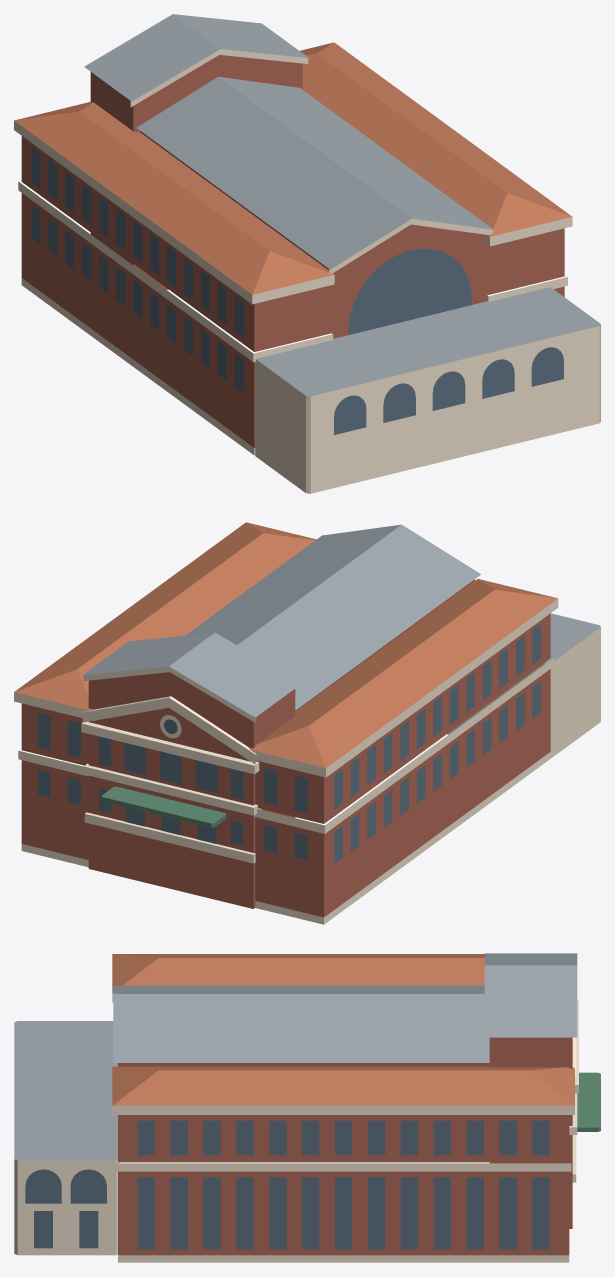
Rendered from sea-union-station.glb.
3 views of the same model, one above another, from view 1: azimuth 30°, elevation 25°; view 2: azimuth 150°, elevation 25°; view 3: azimuth 270°, elevation 25° (orthographic). The views are drawn at different scales.
Visible parts, largest first — view 1: Union Station; view 2: Union Station; view 3: Union Station.
Part boxes in pixels (x1,y1,x2,y2): Union Station: (14, 14, 600, 493); Union Station: (14, 522, 600, 924); Union Station: (14, 953, 600, 1262).
Size of the model in its own units: 45.4 by 31.2 by 74.25.
